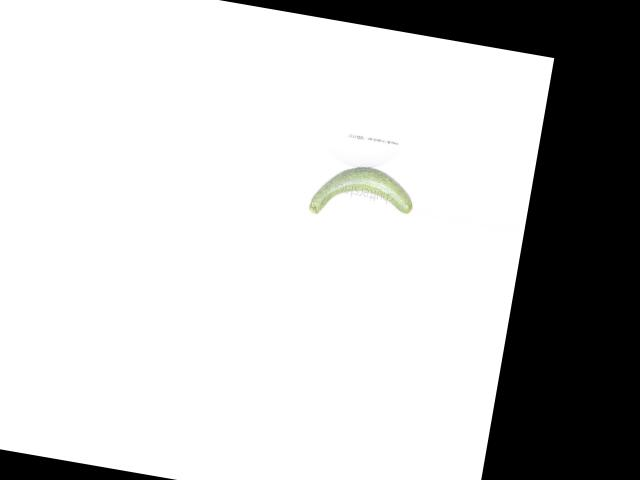cucumber: (308, 158, 417, 230)
